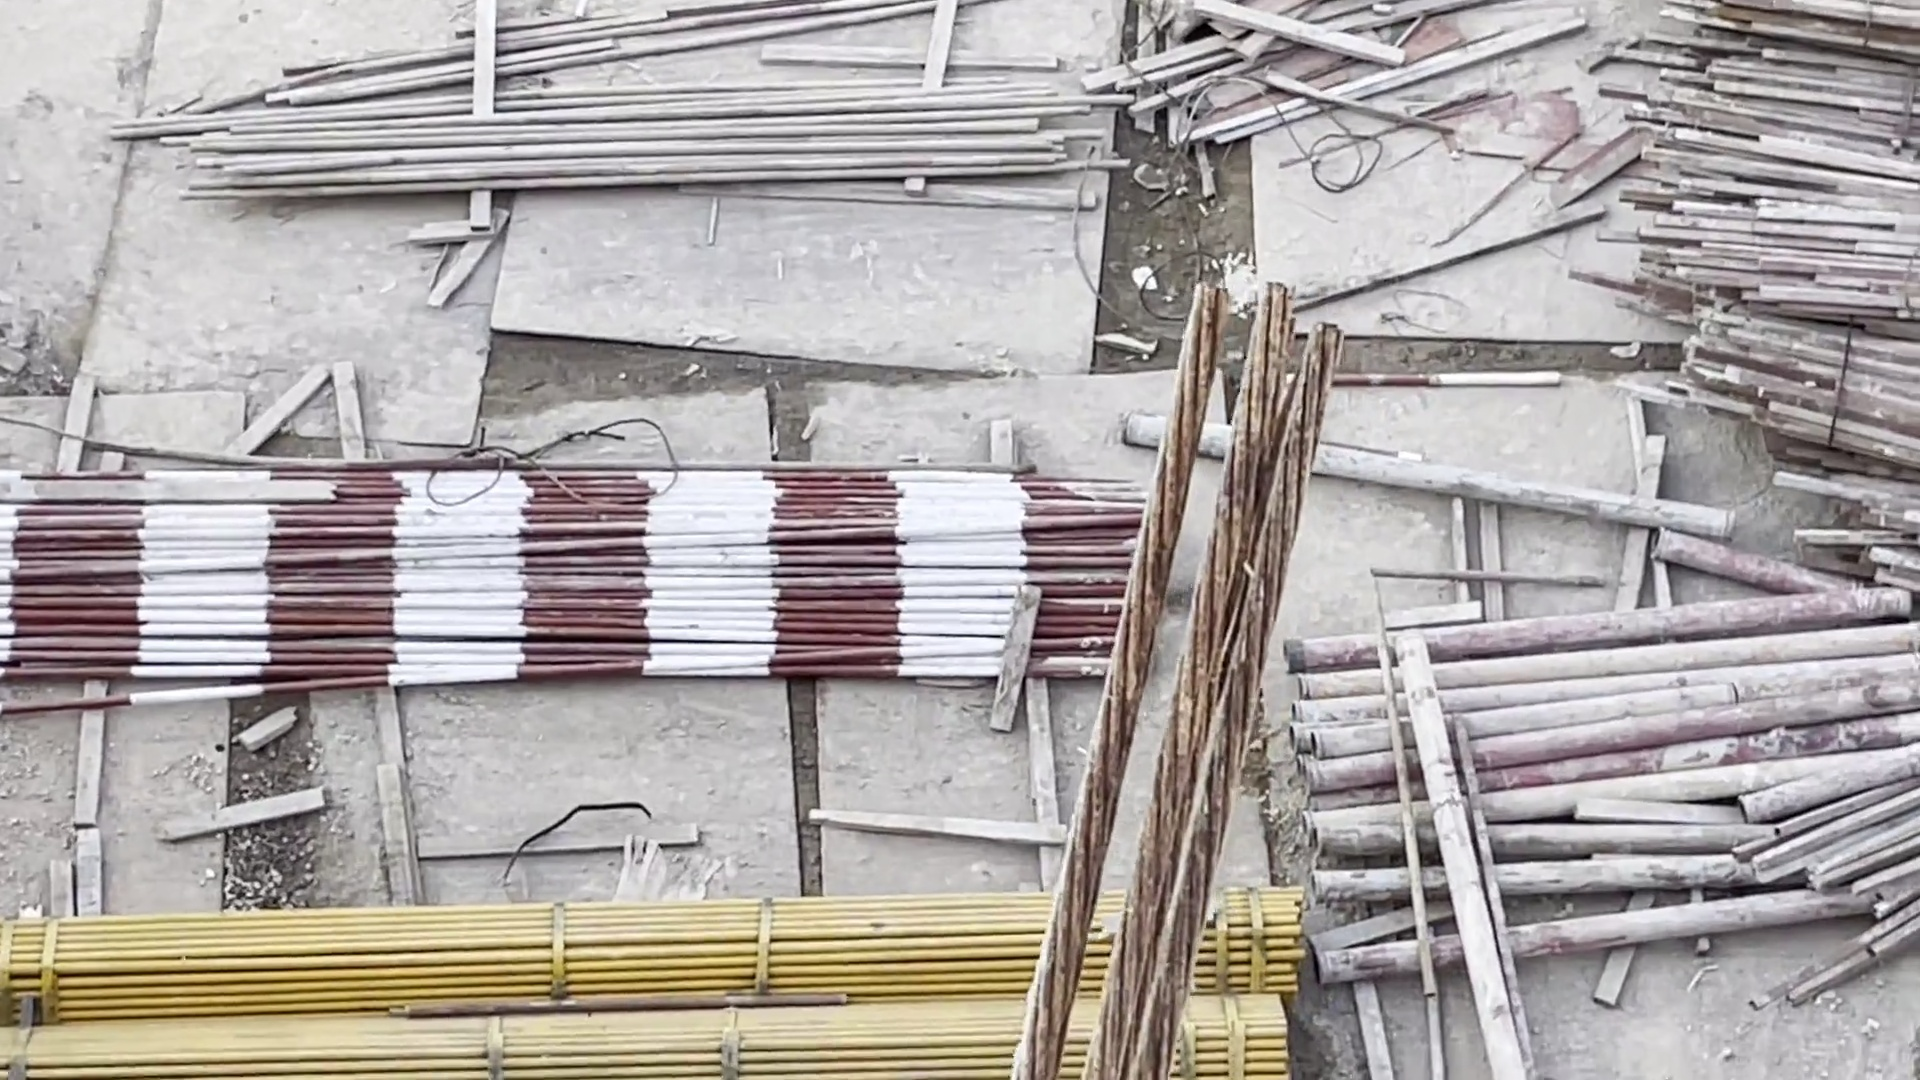scaffold: (1276, 626, 1920, 992)
wood: (1695, 3, 1920, 564)
